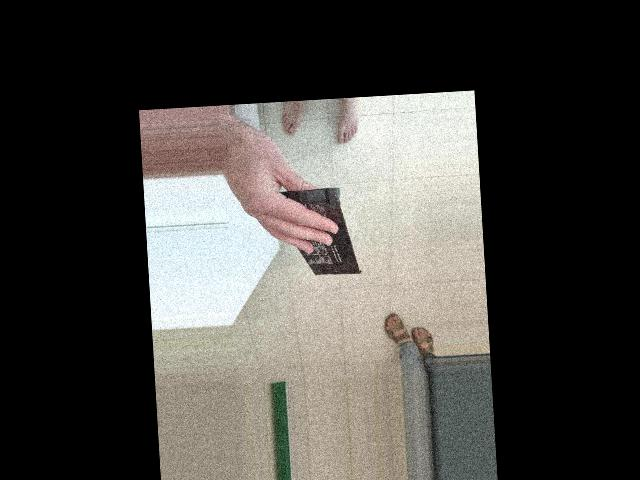chocolate: (329, 218, 438, 311)
